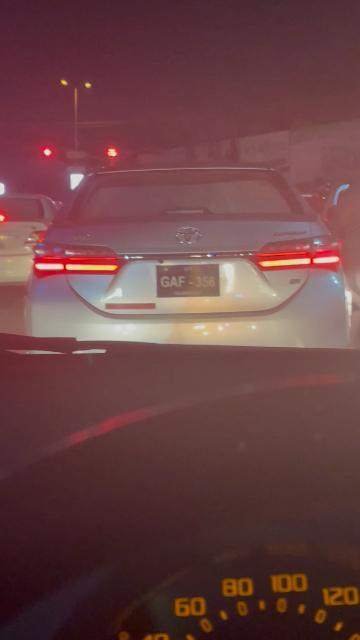plate: (157, 265, 218, 297)
